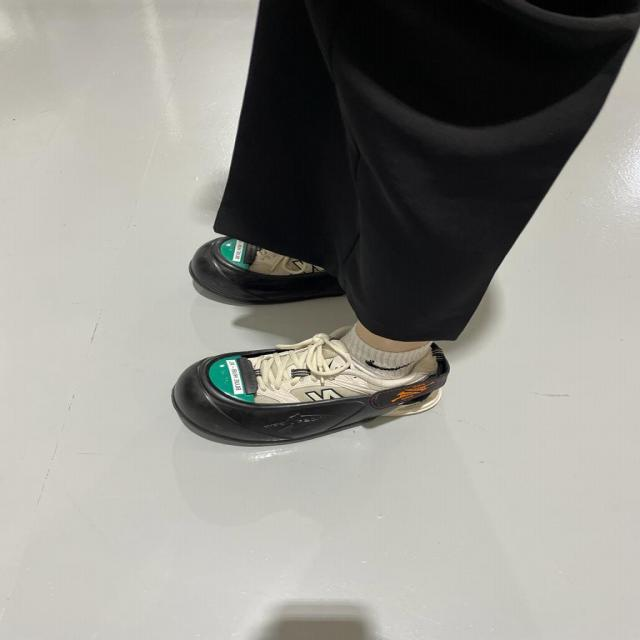shoes: (157, 329, 460, 454), (180, 229, 345, 314)
